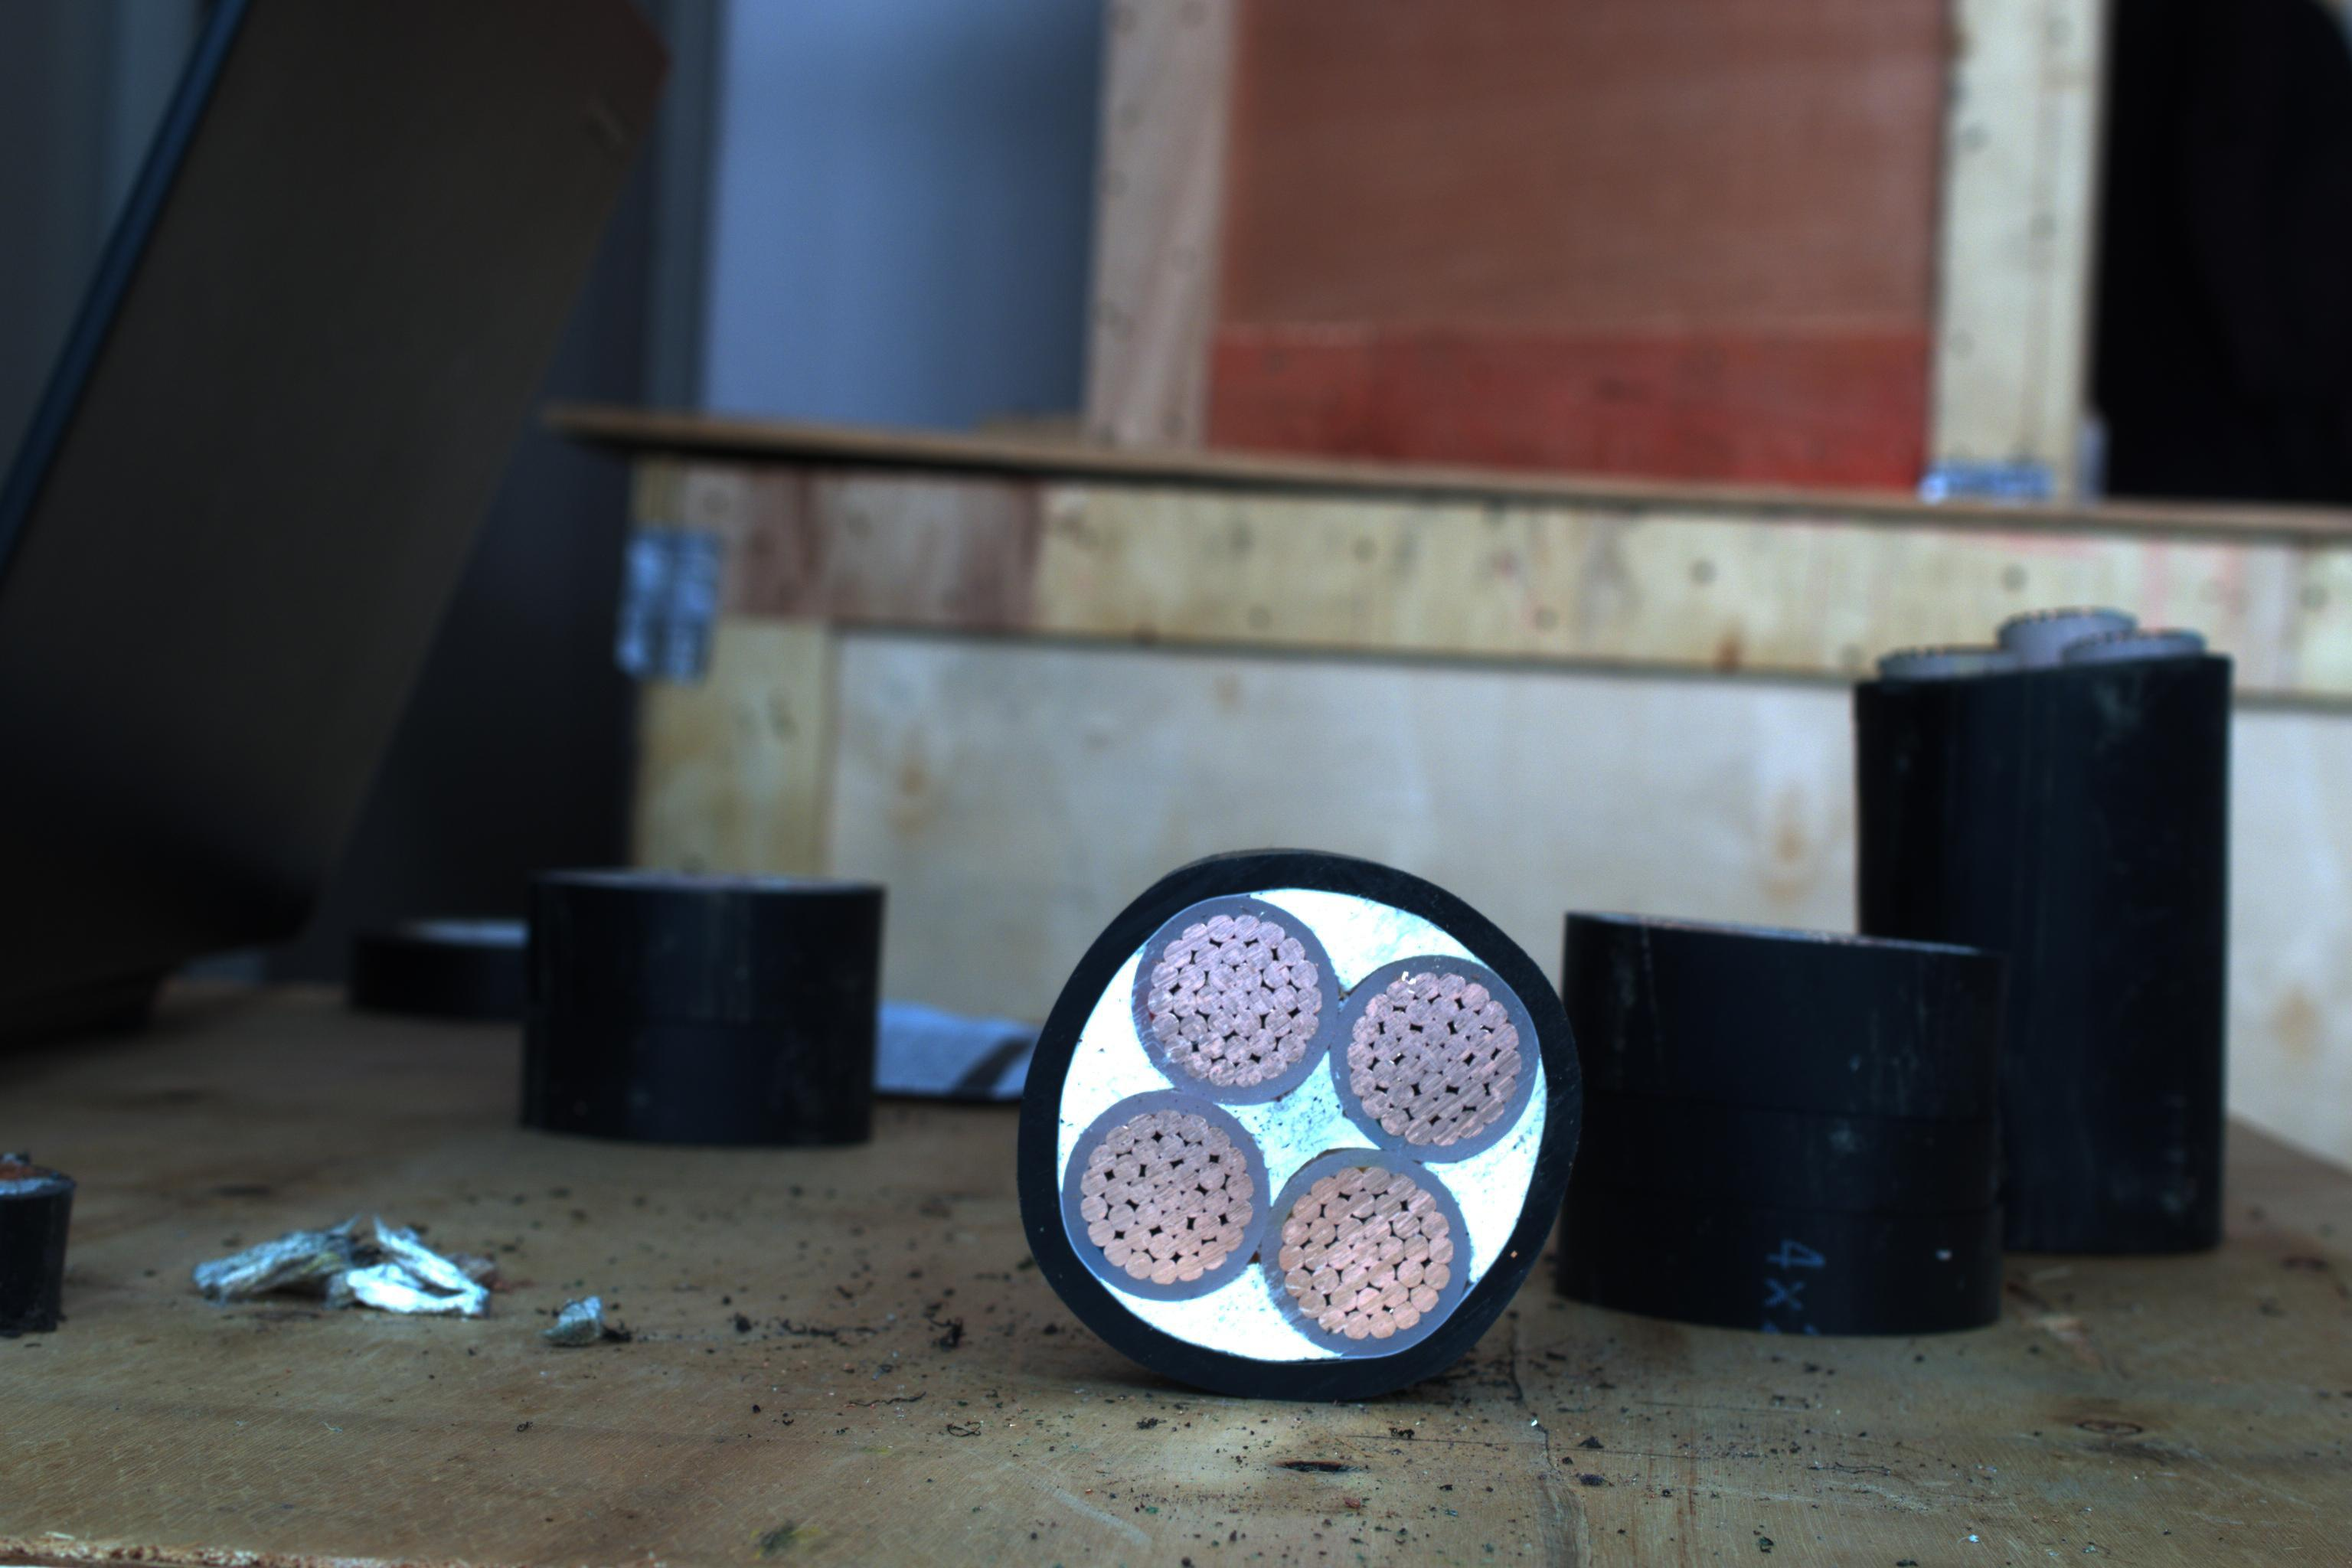YJV_0.6_1kV_4x240: (1036, 849, 1563, 1379)
